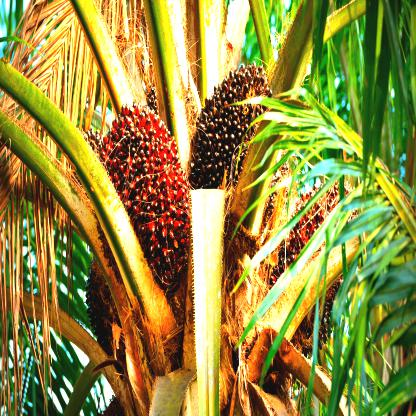1: (101, 98, 194, 264), (283, 176, 352, 349), (84, 257, 126, 356)
palm-oil: (190, 66, 272, 184)
